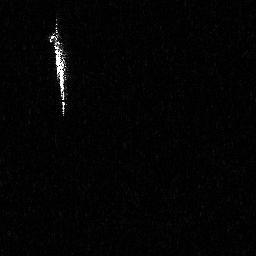ship: (49, 17, 71, 118)
